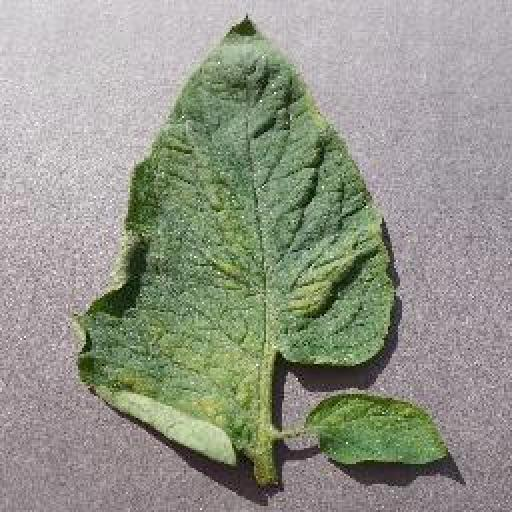disease_tomato: (69, 12, 395, 466), (304, 390, 458, 470)
